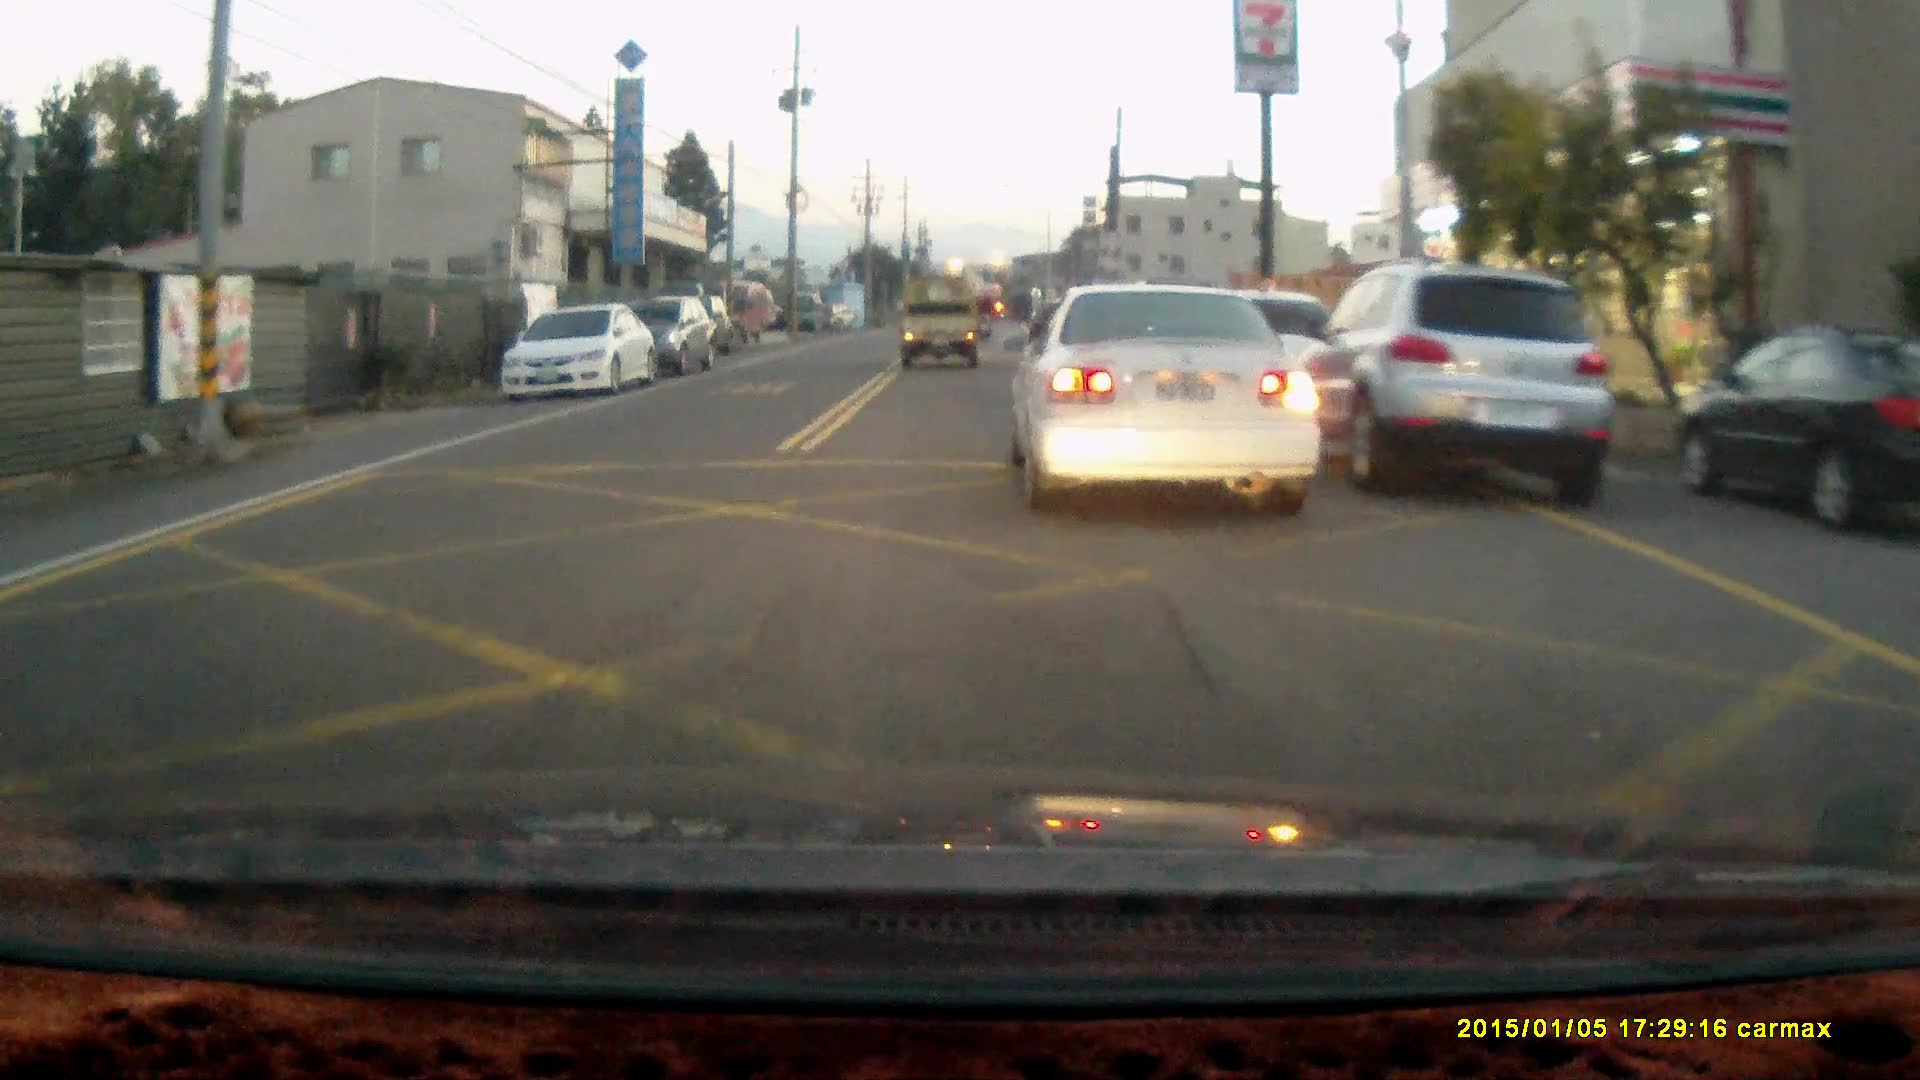rider: (971, 290, 997, 339)
vehicle: (1284, 263, 1621, 506), (1006, 277, 1321, 503), (1677, 324, 1919, 526), (496, 296, 661, 402), (896, 277, 983, 367), (622, 295, 712, 375)
